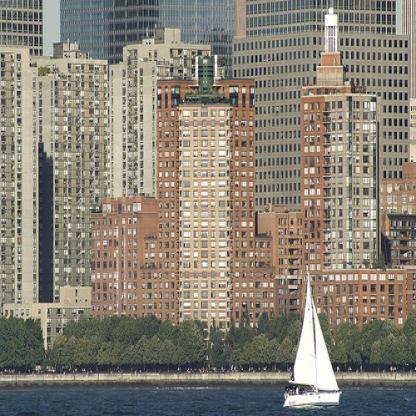boat: (282, 265, 340, 410)
